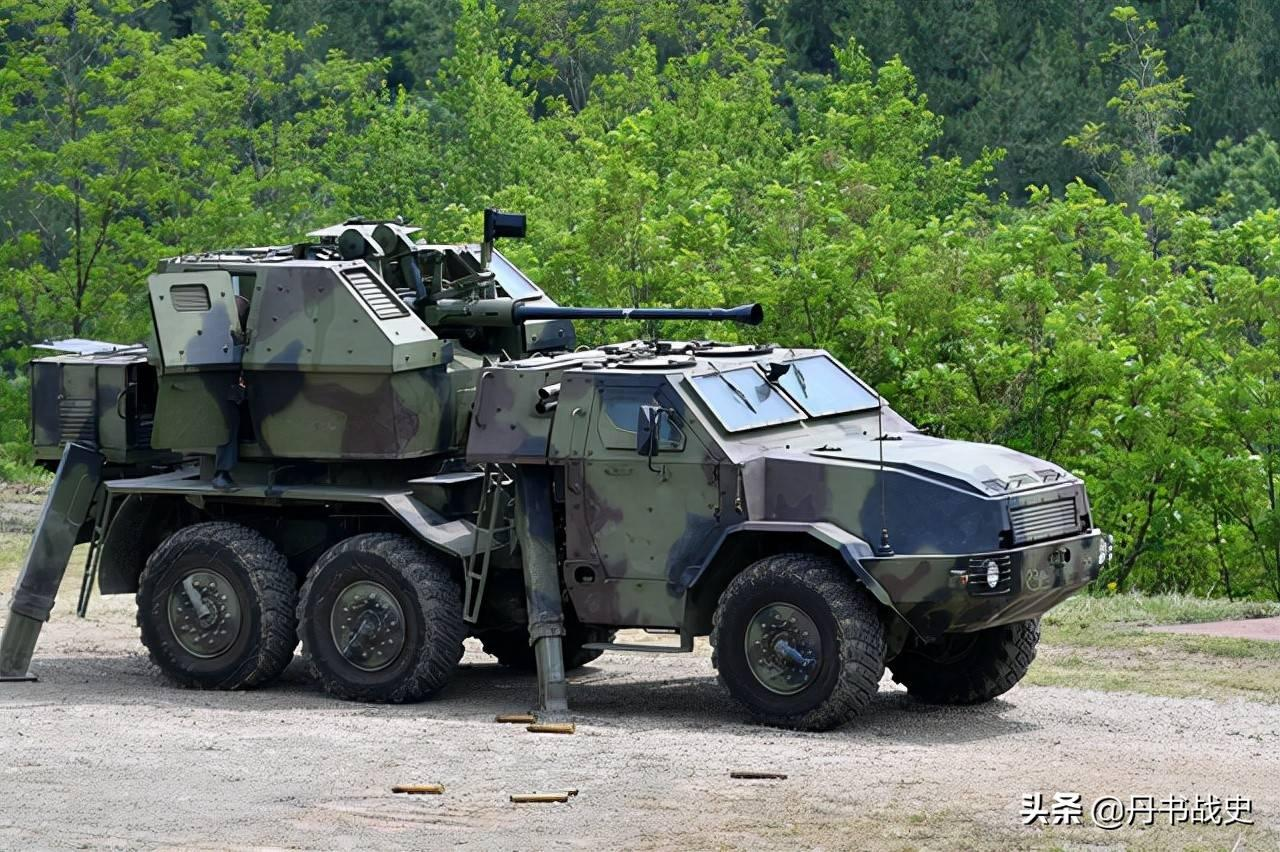MIL_SPG: (0, 210, 1108, 730)
